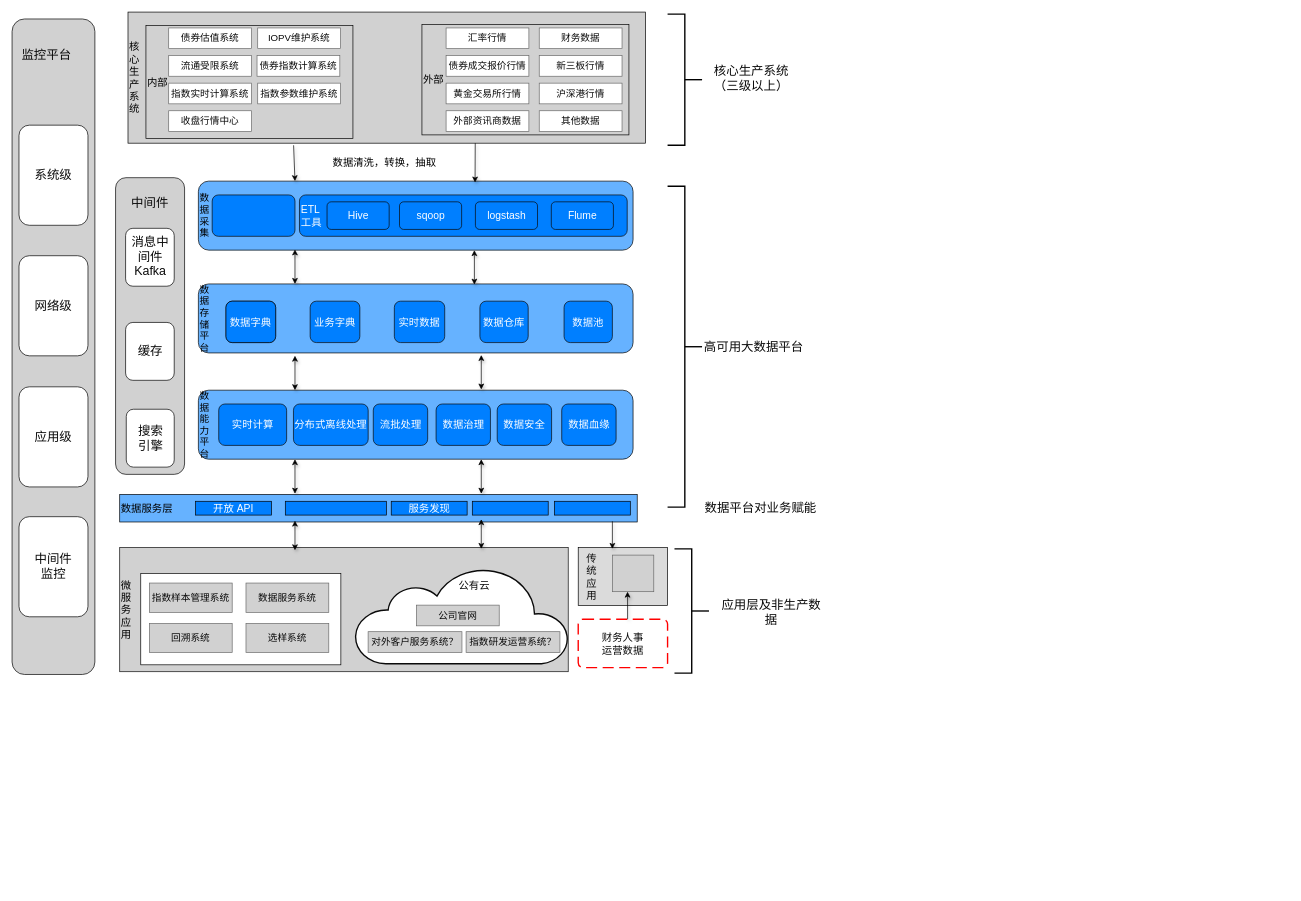
Some shapes in this 1301 by 901 pixel diagram are drawn without their labels. Each missing label, with the centre of its shape:
"OA系统" goes at [633,573].
"动态配置" goes at [592,508].
"微服务" goes at [253,215].
"负载均衡" goes at [510,508].
"远程方法调用RPC" goes at [335,508].
